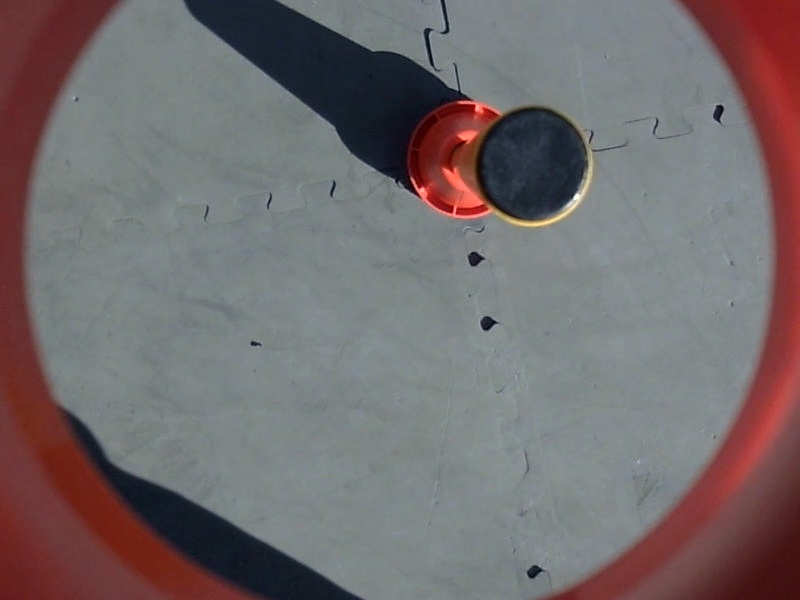tip: (476, 99, 599, 234)
